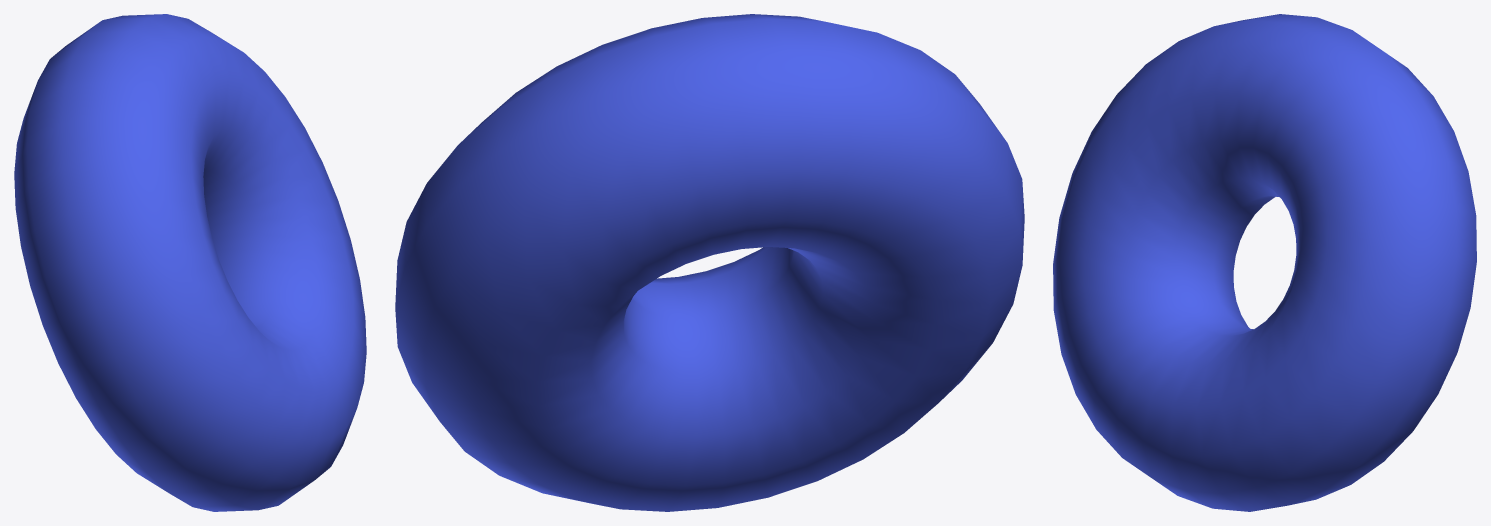
3 renders of one model, left to right at view 1: azimuth 30°, elevation 25°; view 2: azimuth 150°, elevation 25°; view 3: azimuth 270°, elevation 25°, orthographic. The views are drawn at different scales.
Parts seen in each view (by area): view 1: Torus.003; view 2: Torus.003; view 3: Torus.003.
Part boxes in pixels (left/top/right/bottom): Torus.003: left=14, top=14, right=366, bottom=511; Torus.003: left=395, top=14, right=1024, bottom=511; Torus.003: left=1053, top=14, right=1476, bottom=511.
Bounding box in the file's own units: 3.5 × 3.83 × 3.46.
